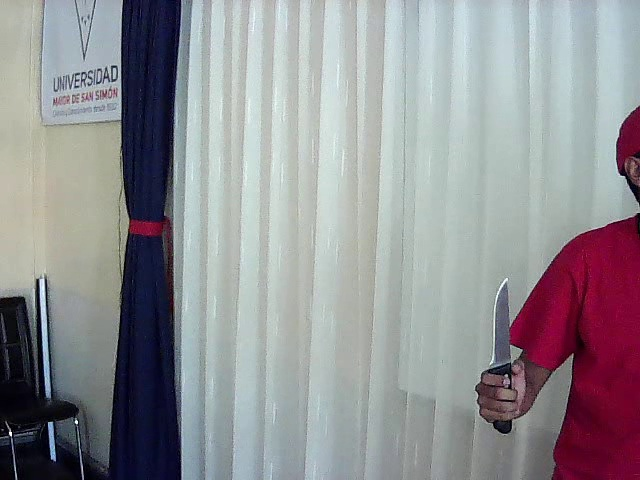cuchillo: (474, 266, 524, 414)
